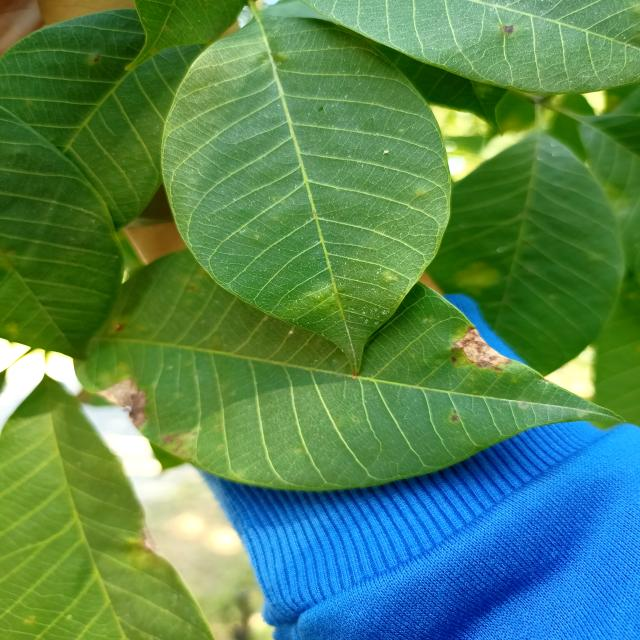Colletotrichum: (502, 24, 514, 35)
Leaf-Blight: (95, 378, 149, 428), (454, 327, 512, 372)
